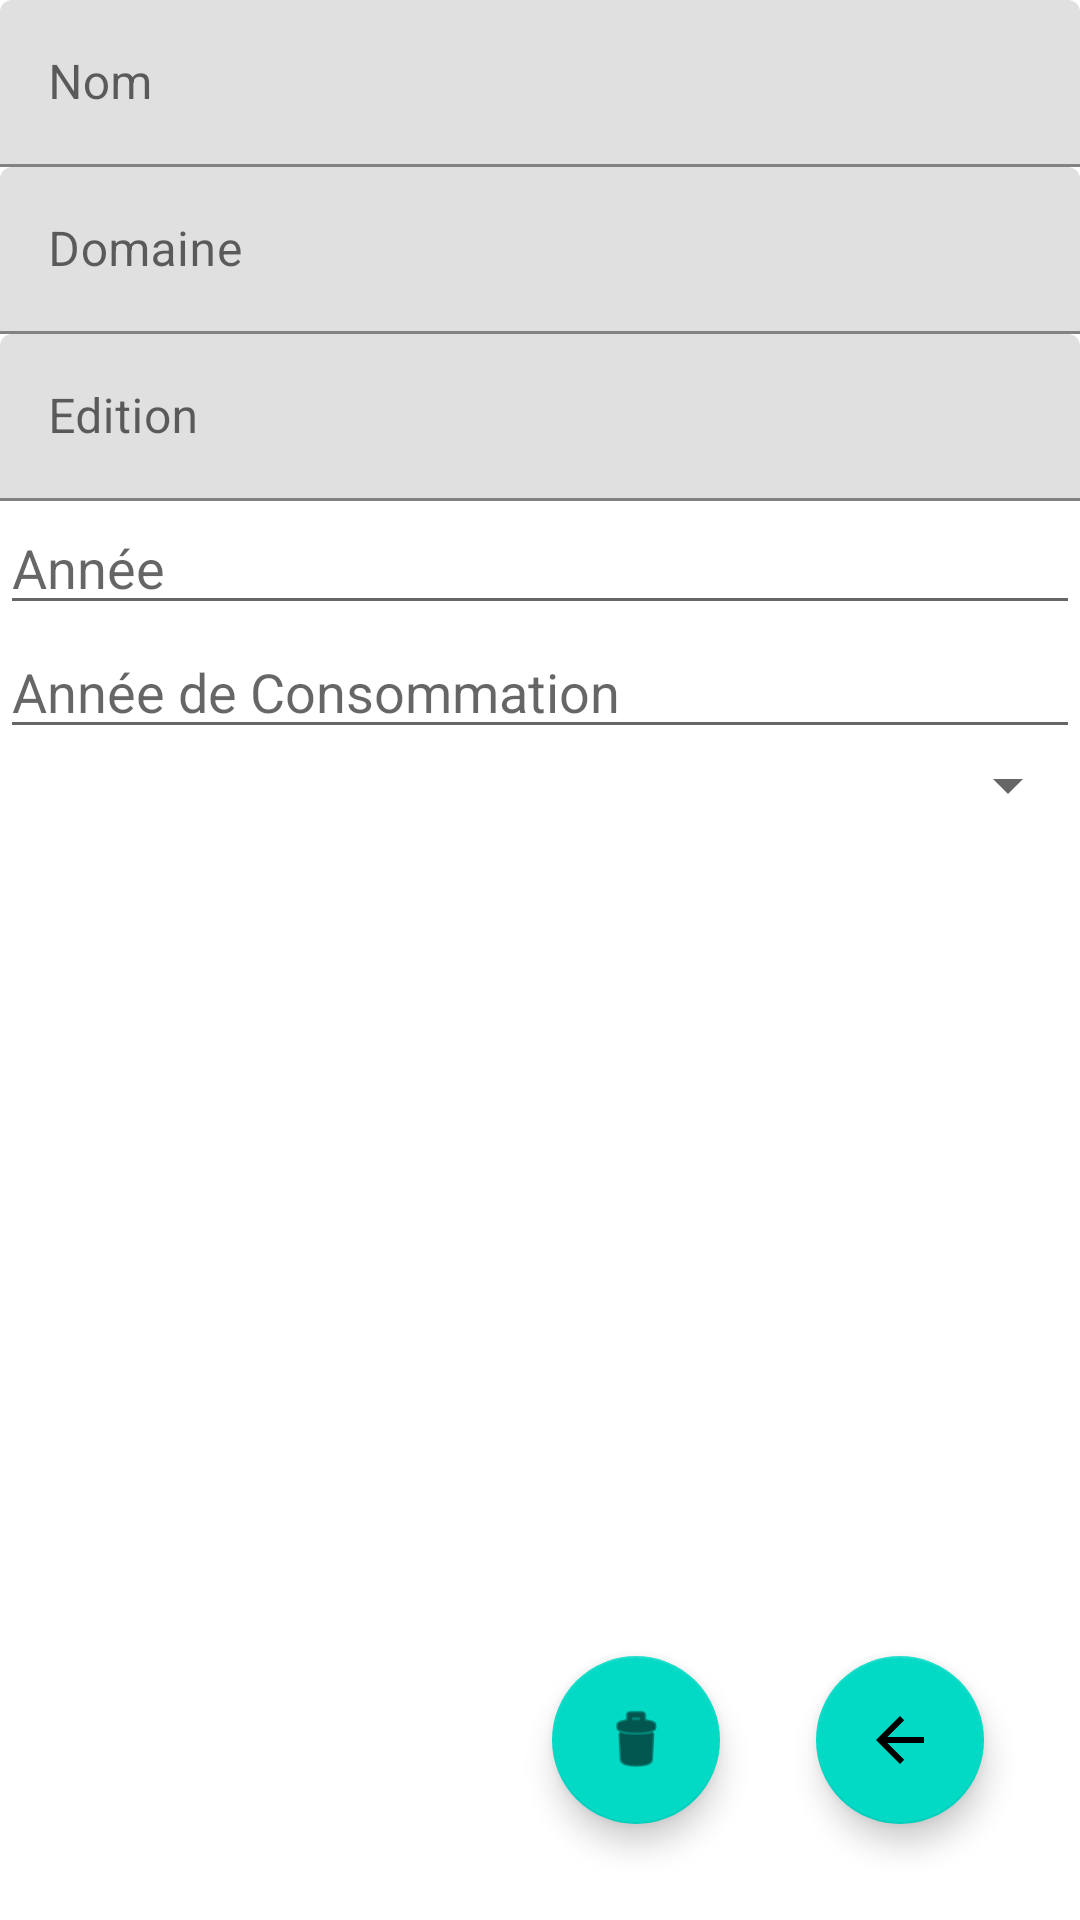

Icon click points for this 1080px x 1920px phone screenshot, format (x=x, y=y):
delete: (x=636, y=1740)
